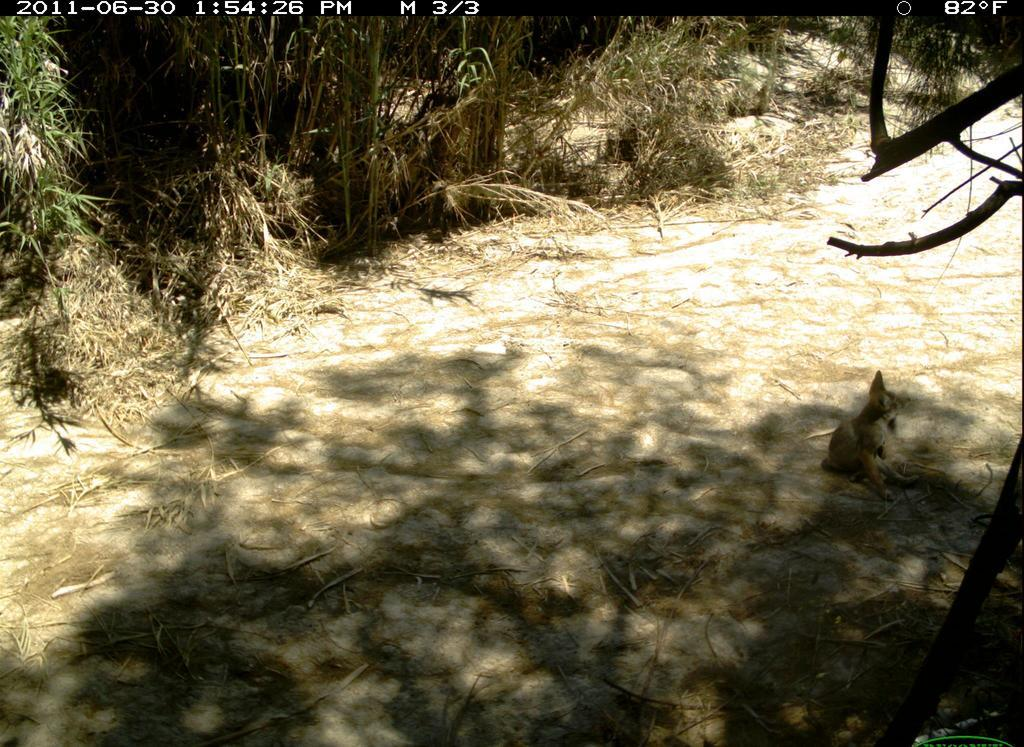coyote: (816, 363, 939, 509)
